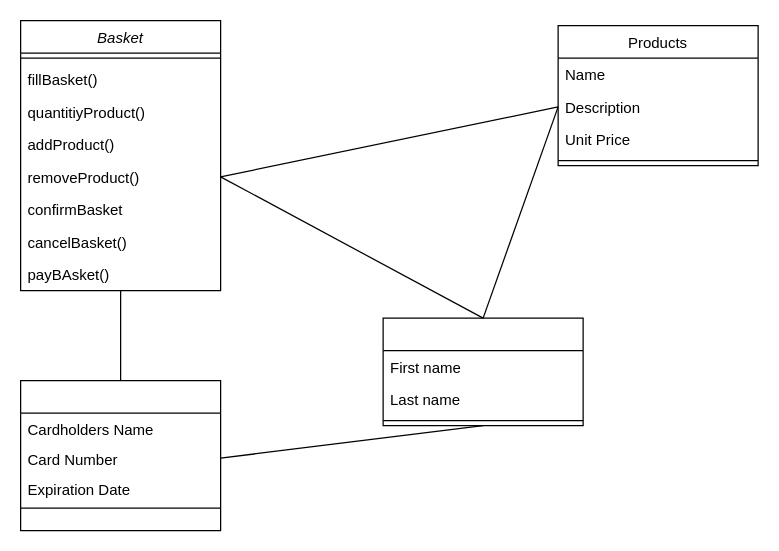
This 779x551 diagram has some shape labels left out. The shapes that lost their labels are listed below. From the top down, each one's box as (x1, y1, x2, y2) in pixels, then its label:
(382, 317, 583, 426): Customer
(19, 379, 221, 531): Credit Card
